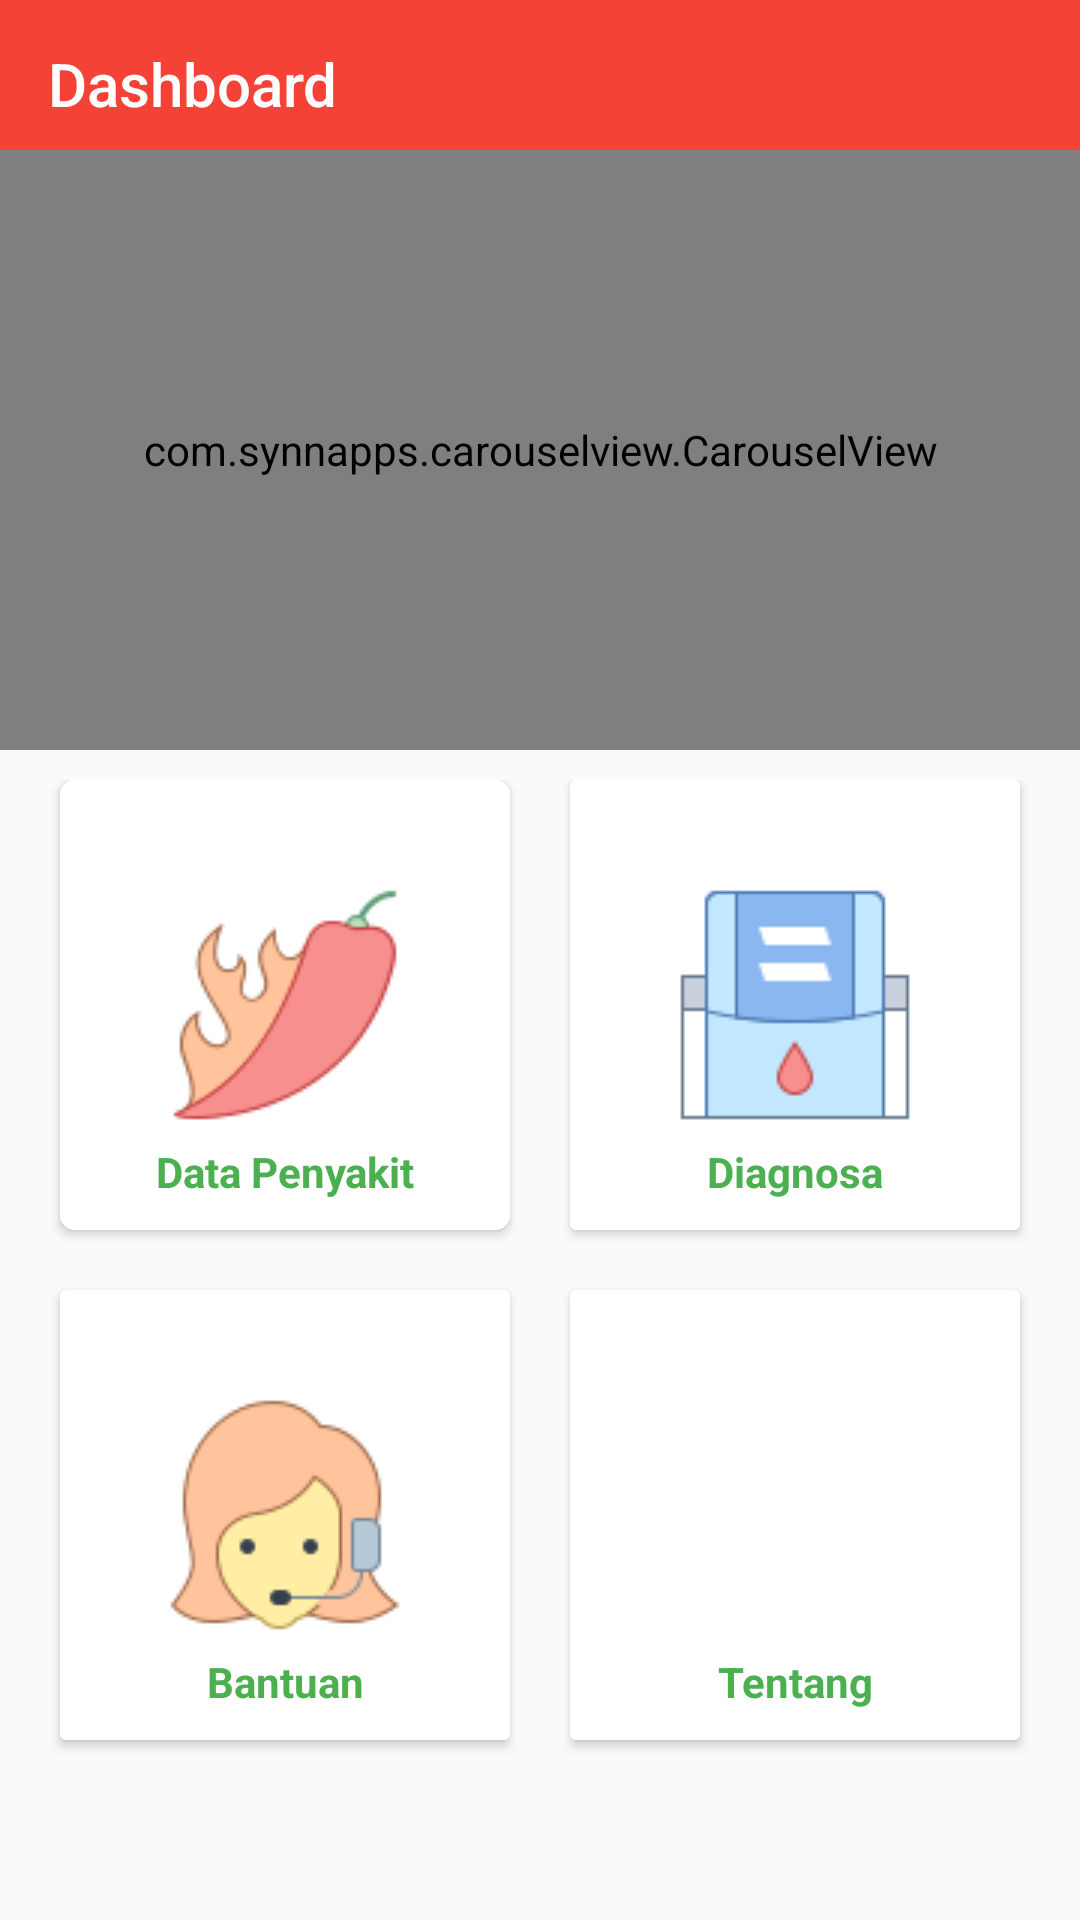

Icon bounding boxes for this 1080px×1920px phone screenshot, format (x1, y1, x2, y2):
chili: (173, 890, 397, 1120)
